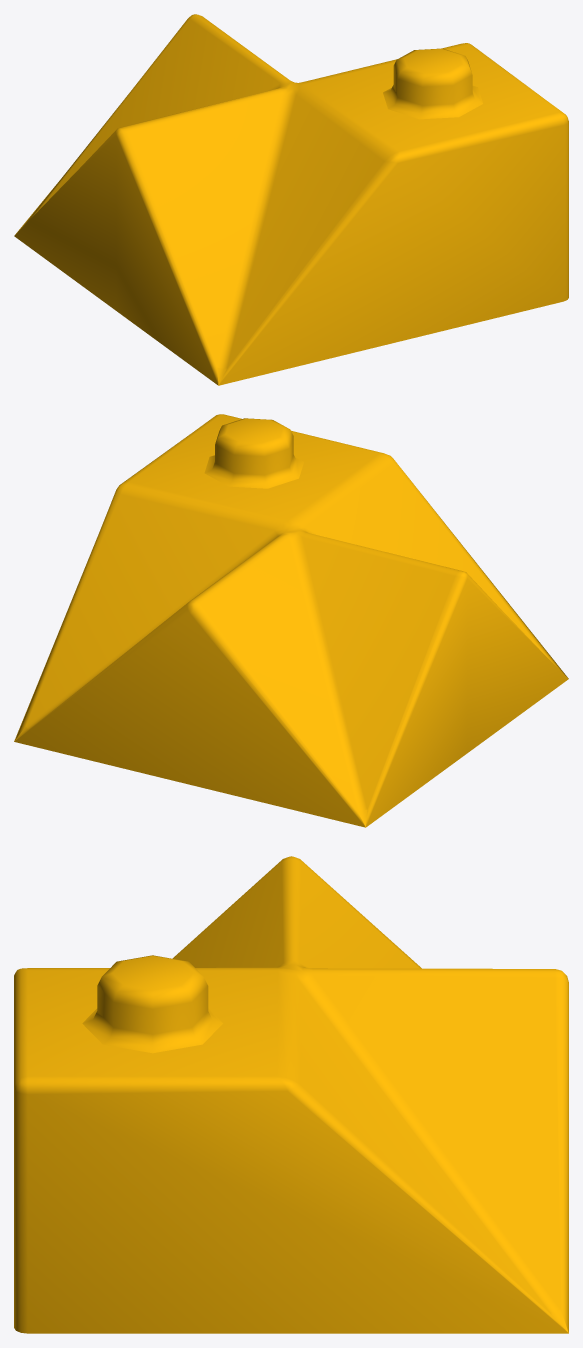
File: Lowered_Three_Corner_Half.fbx
3 renders of one model, top to bottom at view 1: azimuth 30°, elevation 25°; view 2: azimuth 150°, elevation 25°; view 3: azimuth 270°, elevation 25°, orthographic. The views are drawn at different scales.
Parts seen in each view (by area): view 1: Lowered_Three_Corner_Half, Knobs.028; view 2: Lowered_Three_Corner_Half, Knobs.028; view 3: Lowered_Three_Corner_Half, Knobs.028.
Boxes of the visible parts, left/top/right/bottom form: Lowered_Three_Corner_Half: left=14, top=14, right=568, bottom=385; Knobs.028: left=383, top=48, right=482, bottom=119; Lowered_Three_Corner_Half: left=14, top=414, right=568, bottom=827; Knobs.028: left=204, top=418, right=303, bottom=488; Lowered_Three_Corner_Half: left=14, top=856, right=568, bottom=1333; Knobs.028: left=82, top=955, right=222, bottom=1053.
Bounding box in the file's own units: 1 × 0.6 × 1.
